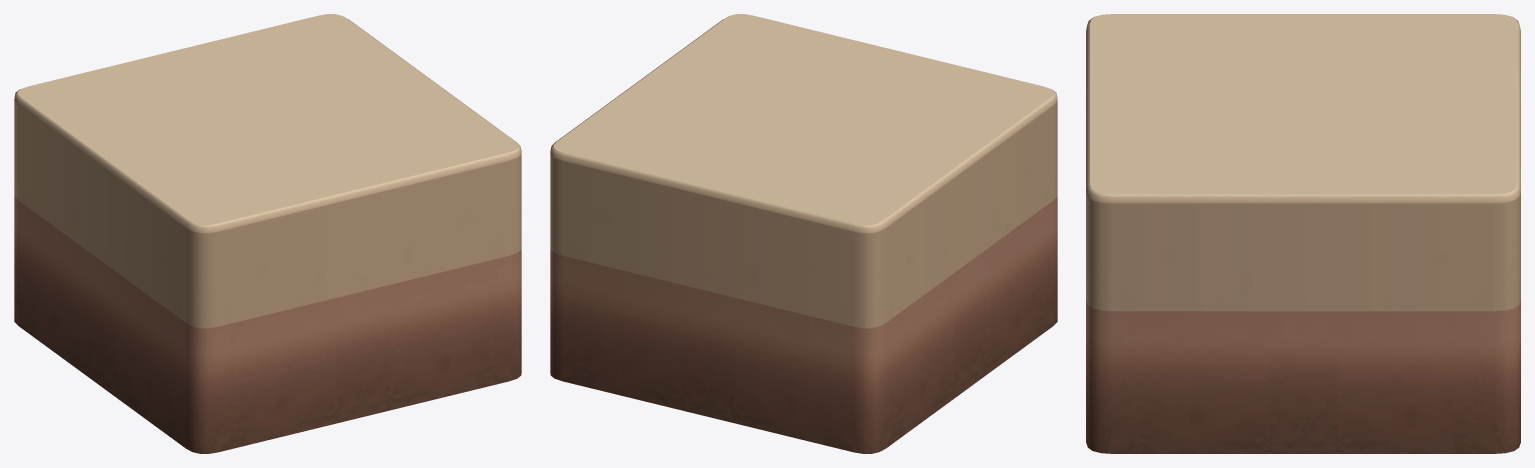
Rendered from Props.fbx.
The picture shows the model from 3 angles, left to right: view 1: azimuth 30°, elevation 25°; view 2: azimuth 150°, elevation 25°; view 3: azimuth 270°, elevation 25°; orthographic projection. The views are drawn at different scales.
Visible parts, largest first — view 1: Box02; view 2: Box02; view 3: Box02.
Part boxes in pixels (<box>): Box02: <box>14,14,521,453</box>; Box02: <box>550,14,1057,453</box>; Box02: <box>1086,14,1520,453</box>.
Bounding box in the file's own units: 4 × 2.62 × 4.
